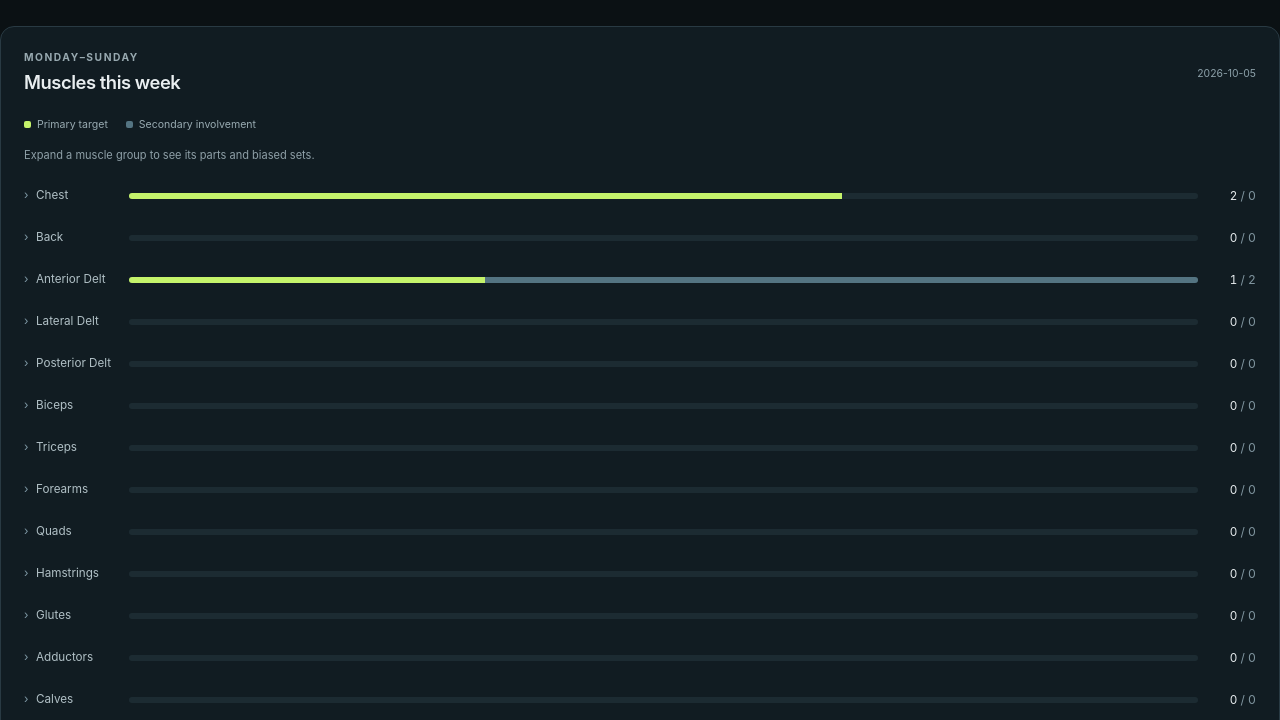
Scenario: weekly muscle detail › shows historical gaps and zero-count parts instead of assuming complete coverage
The image size is (1280, 720).
Click the heading named "biceps: 0 primary sets, 0 secondary sets; show muscle parts" at {"x": 646, "y": 405}, box [36,398,1256,413]
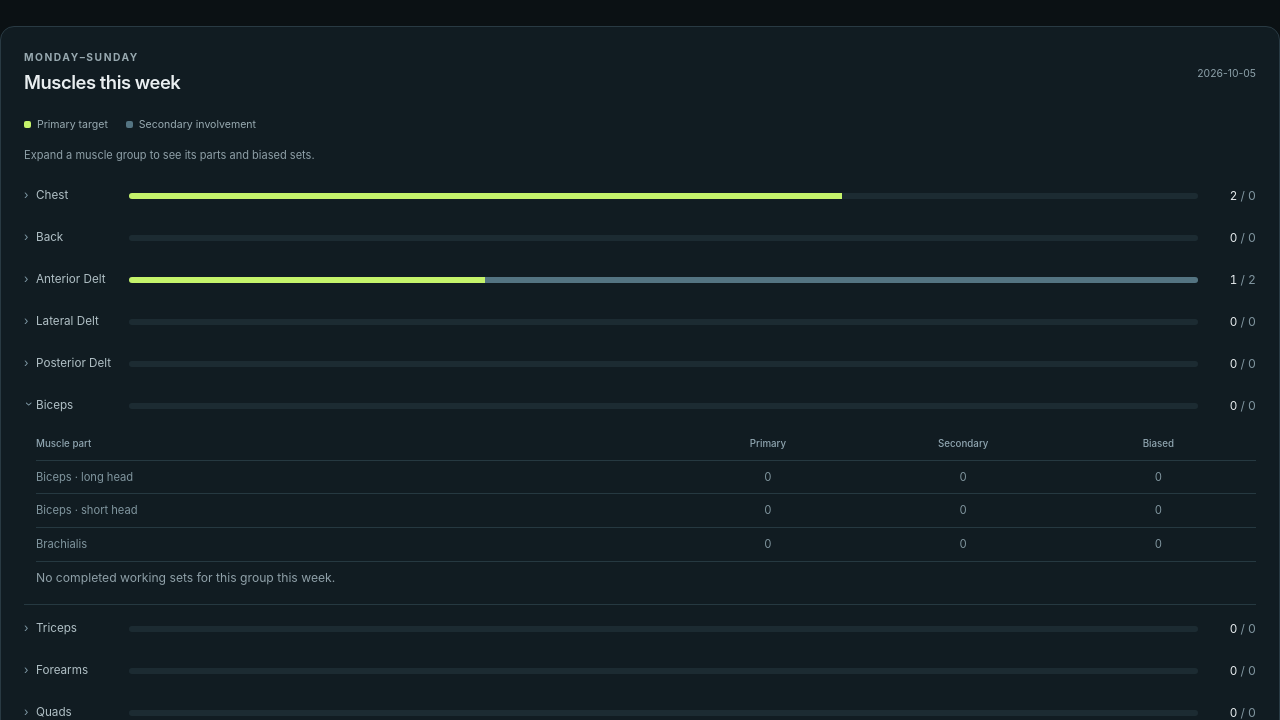
Check: the row "Biceps · long head 0 0 0" is shown, box [36,461,1256,494]
Check: the text "No completed working sets for this group this week." is shown, box [36,570,335,585]
